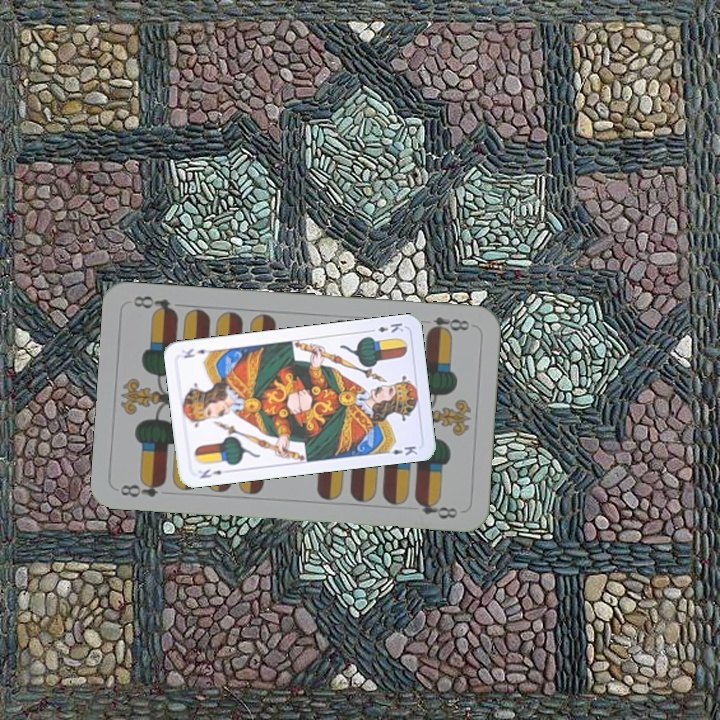E8: (116, 475, 168, 500), (424, 313, 472, 337)
EK: (365, 319, 406, 335), (196, 465, 225, 481)
